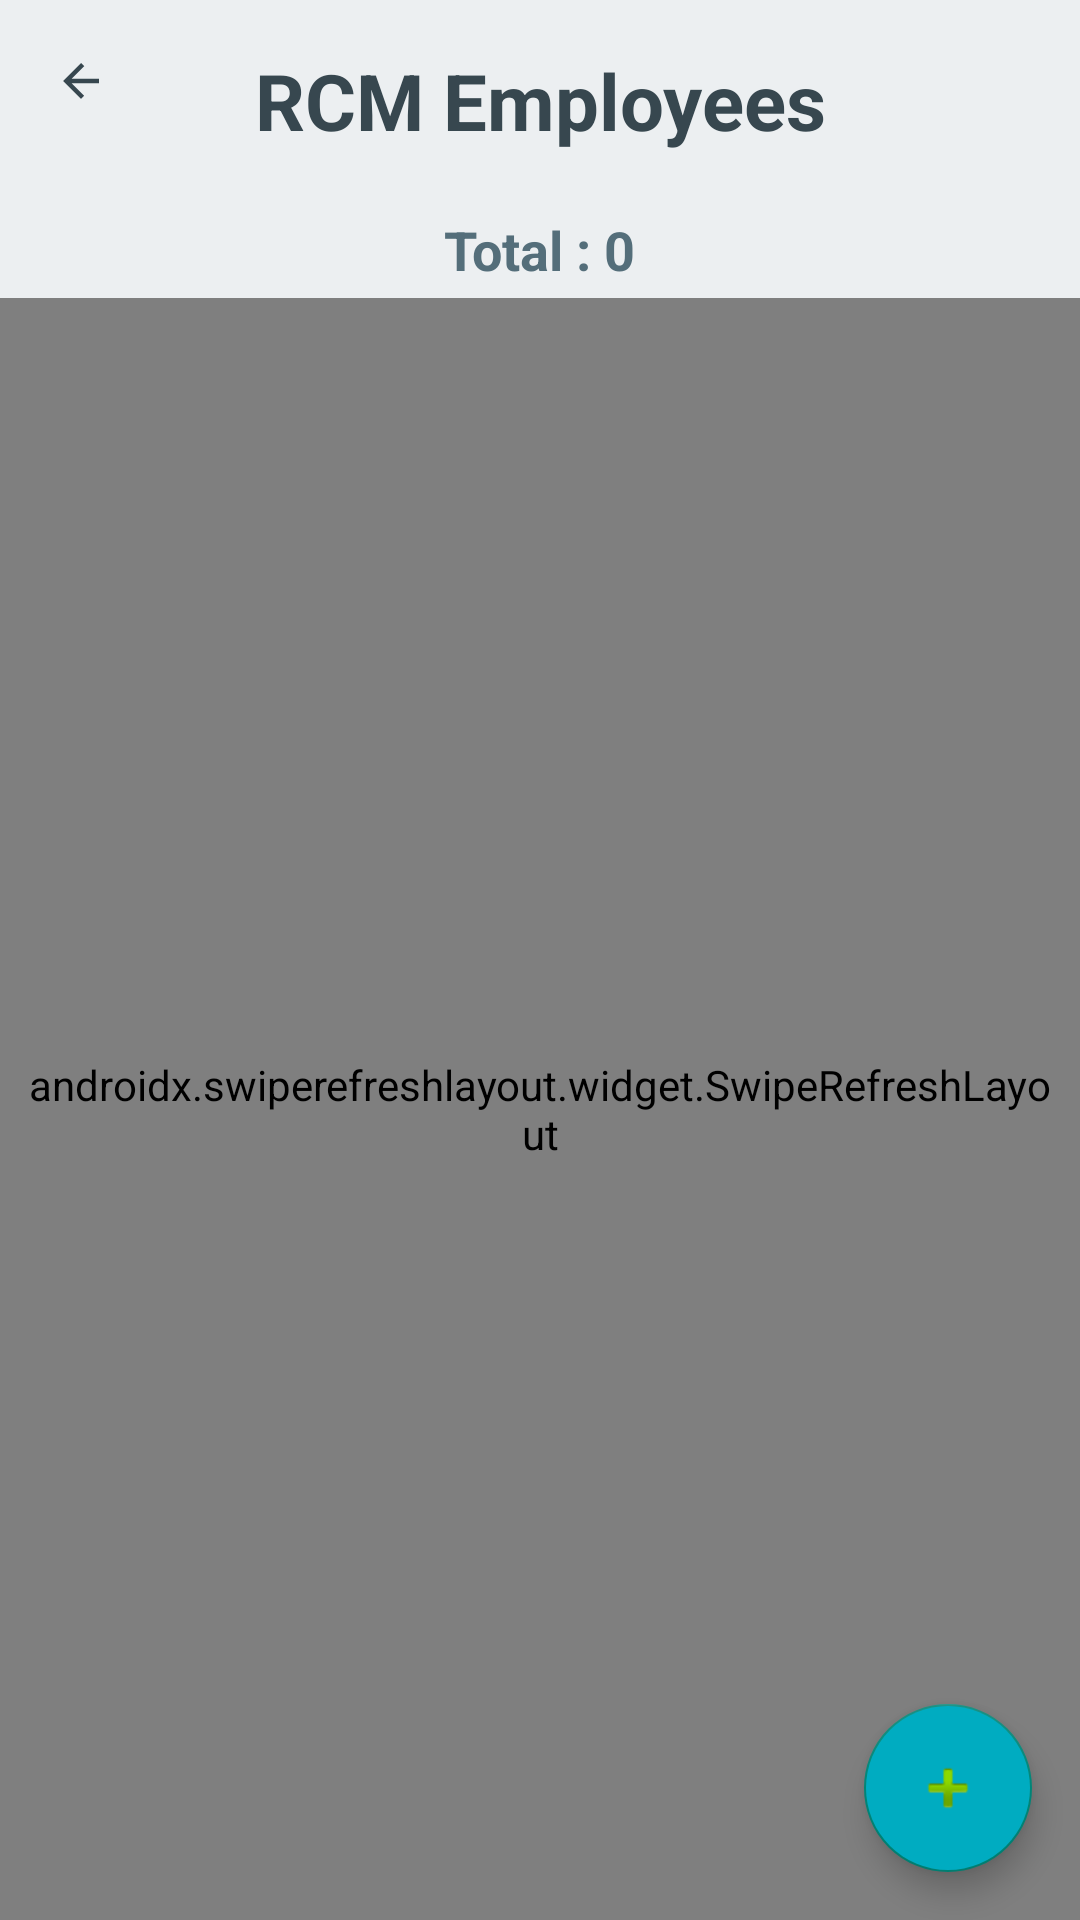

Icon bounding boxes for this 1080w x 1920h phone screenshot, format (x1, y1, x2, y2):
Add Employee: (864, 1704, 1032, 1872)
arrow back: (63, 63, 99, 99)
